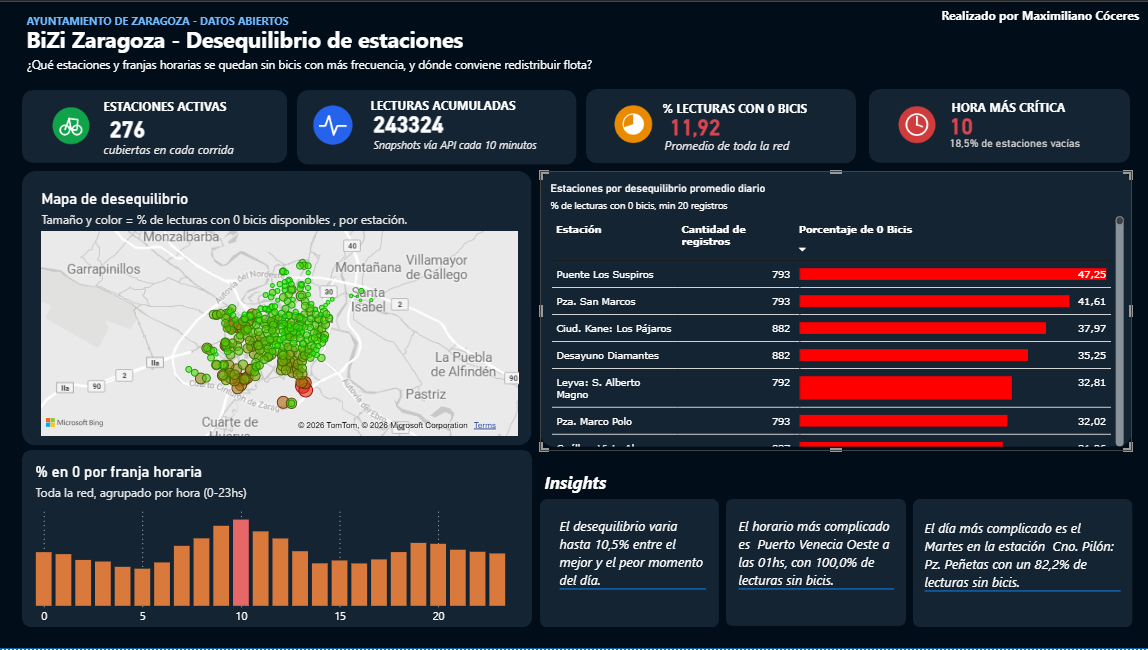

This screenshot's page, from the dashboard's own definition file:
{"tool":"powerbi","page":{"name":"Página 1","canvas":[1280,720],"ordinal":0},"visuals":[{"type":"shape","box":[0,0,1280,720],"z":0},{"type":"textbox","box":[407.7,102.8,224.1,39.2],"z":0,"group":"g11"},{"type":"textbox","box":[731.8,105.6,214.6,29.5],"z":0,"group":"g13"},{"type":"card","fields":{"Values":["porcentaje_0bicis_hora.Hora critica"]},"box":[1041.1,121,56.1,34.8],"z":0,"group":"g14"},{"type":"card","title":"ESTACIONES ACTIVAS","fields":{"Values":["Count(bizi_data.nombre_estacion)"]},"box":[101.4,124,83.1,34.1],"z":0,"group":"g9"},{"type":"textbox","box":[111.1,102.9,177,30.5],"z":1000,"group":"g9"},{"type":"textbox","box":[1053.3,104,184.1,33.7],"z":1000,"group":"g14"},{"type":"card","fields":{"Values":["Sum(porcenraje_veces_sin_bici.registros)"]},"box":[395.9,113.1,118.6,48.5],"z":1000,"group":"g11"},{"type":"card","fields":{"Values":["Avg(porcenraje_veces_sin_bici.porcentaje_0_bicis)"]},"box":[731.1,122.6,84.6,35.2],"z":1000,"group":"g13"},{"type":"shape","box":[25,188.8,566.2,305],"z":1000,"group":"g6"},{"type":"textbox","box":[1007.8,231.1,235.6,34.4],"z":1000},{"type":"textbox","box":[25.6,7.8,315.6,26.7],"z":2000},{"type":"group","id":"g1","title":"Grupo 5","box":[966.8,97.4,290.1,82.3],"z":2000,"group":"g12"},{"type":"card","fields":{"Values":["porcentaje_0bicis_hora.Subtitulo Critico"]},"box":[1035.6,143.7,186.3,23.3],"z":2000,"group":"g14"},{"type":"textbox","box":[411.5,146.3,225.9,36.5],"z":2000,"group":"g11"},{"type":"textbox","box":[734.9,146.5,173,32.9],"z":2000,"group":"g13"},{"type":"textbox","box":[110.8,150.3,197.4,27.9],"z":2000,"group":"g9"},{"type":"map","title":"Mapa de desequilibrio","fields":{"Y":["porcentaje_estacionXhora_vacia.latitud"],"X":["porcentaje_estacionXhora_vacia.longitud"],"Size":["Avg(porcentaje_estacionXhora_vacia.porcentaje)"]},"box":[41.2,210.4,540,277.5],"z":2000,"group":"g6"},{"type":"shape","box":[601.2,188.8,657.5,306.2],"z":2500,"group":"g5"},{"type":"shape","box":[25.3,499.3,566.7,196.8],"z":2500,"group":"g7"},{"type":"tableEx","title":"Estaciones por desequilibrio promedio diario","fields":{"Values":["porcentaje_estacionXhora_vacia.nombre_estacion","Sum(porcentaje_estacionXhora_vacia.registros)","Avg(porcentaje_estacionXhora_vacia.porcentaje)"]},"box":[608.4,201,647.3,298.7],"z":3000,"group":"g5"},{"type":"shape","box":[601.2,553.8,198.8,142.5],"z":3000},{"type":"textbox","box":[25.1,21.1,519,47.2],"z":4000},{"type":"group","id":"g2","title":"Grupo 6","box":[652.2,97.8,300,82.8],"z":4000,"group":"g10"},{"type":"group","id":"g3","title":"Grupo 7","box":[331.1,98.9,310.6,83.9],"z":4000,"group":"g8"},{"type":"textbox","box":[25,56.2,650,41.2],"z":5000},{"type":"group","id":"g4","title":"Grupo 8","box":[25.6,98.9,294.4,82.2],"z":6000},{"type":"textbox","box":[1042.2,2.2,237.8,36.7],"z":7000},{"type":"shape","box":[25.6,98.9,294.7,81],"z":7000,"group":"g4"},{"type":"group","id":"g5","title":"Grupo 10","box":[601.2,188.8,657.5,310.8],"z":8000},{"type":"group","id":"g6","title":"Grupo 11","box":[25,188.8,566.2,305],"z":9000},{"type":"image","box":[333.4,112.5,74.7,50.5],"z":9001,"group":"g8"},{"type":"image","box":[38.7,113.7,82.9,48],"z":9001,"group":"g9"},{"type":"group","id":"g7","title":"Grupo 12","box":[25.3,499.3,566.7,202.7],"z":10000},{"type":"columnChart","title":"% en 0 por franja horaria","fields":{"Category":["porcentaje_estacionXhora_vacia.hora"],"Y":["porcentaje_estacionXhora_vacia.Porcentaje General"]},"box":[35.3,513.3,554.2,188.7],"z":10000,"group":"g7"},{"type":"shape","box":[331.1,98.9,310.6,83.2],"z":10500,"group":"g3"},{"type":"shape","box":[652.2,97.8,300,82.8],"z":10750,"group":"g2"},{"type":"shape","box":[966.8,97.4,290.1,82.3],"z":10875,"group":"g1"},{"type":"group","id":"g8","title":"Grupo 9","box":[331.1,98.9,308.9,84.4],"z":11000},{"type":"group","id":"g9","title":"Grupo 1","box":[38.7,102.9,269.2,75.3],"z":11000,"group":"g4"},{"type":"group","id":"g10","title":"Grupo 13","box":[652.2,97.8,300,83.3],"z":12000},{"type":"group","id":"g11","title":"Grupo 2","box":[395.9,102.8,241.5,80],"z":12000,"group":"g3"},{"type":"group","id":"g12","title":"Grupo 14","box":[966.8,97.4,290.1,82.3],"z":13000},{"type":"group","id":"g13","title":"Grupo 3","box":[731.1,105.6,215.3,73.8],"z":13000,"group":"g2"},{"type":"image","box":[661.7,112.1,84.6,48.8],"z":13000,"group":"g10"},{"type":"image","box":[978.9,112.6,81.7,48.3],"z":13002,"group":"g12"},{"type":"group","id":"g14","title":"Grupo 4","box":[1035.6,104,201.8,63],"z":14000,"group":"g1"},{"type":"shape","box":[1015,553.8,243.8,142.5],"z":14000},{"type":"shape","box":[807.5,553.8,200,141.2],"z":15000},{"type":"textbox","box":[816.2,567.5,182.5,152.5],"z":16000},{"type":"textbox","box":[617.5,567.5,172.5,125],"z":17000},{"type":"textbox","box":[1023.8,570,227.5,146.2],"z":18000},{"type":"textbox","box":[601.2,516.2,100,37.5],"z":19000}]}

Visuals, with their boxes in screenshot pixels (x1, y1, x2, y2), scaled from the page's 1280x720 canvas onto the 1148x650 screenshot:
shape: (0,0,1147,649)
textbox: (366,93,567,128)
textbox: (656,95,849,122)
card - porcentaje_0bicis_hora.Hora critica: (934,109,984,141)
"ESTACIONES ACTIVAS" card: (91,112,165,143)
textbox: (100,93,258,120)
textbox: (945,94,1110,124)
card - Sum(porcenraje_veces_sin_bici.registros): (355,102,461,146)
card - Avg(porcenraje_veces_sin_bici.porcentaje_0_bicis): (656,111,732,142)
shape: (22,170,530,446)
textbox: (904,209,1115,240)
textbox: (23,7,306,31)
"Grupo 5" group: (867,88,1127,162)
card - porcentaje_0bicis_hora.Subtitulo Critico: (929,130,1096,151)
textbox: (369,132,572,165)
textbox: (659,132,814,162)
textbox: (99,136,276,161)
"Mapa de desequilibrio" map: (37,190,521,440)
shape: (539,170,1129,447)
shape: (23,451,531,628)
"Estaciones por desequilibrio promedio diario" tableEx: (546,181,1126,451)
shape: (539,500,718,629)
textbox: (23,19,488,62)
"Grupo 6" group: (585,88,854,163)
"Grupo 7" group: (297,89,576,165)
textbox: (22,51,605,88)
"Grupo 8" group: (23,89,287,163)
textbox: (935,2,1147,35)
shape: (23,89,287,162)
"Grupo 10" group: (539,170,1129,451)
"Grupo 11" group: (22,170,530,446)
image: (299,102,366,147)
image: (35,103,109,146)
"Grupo 12" group: (23,451,531,634)
"% en 0 por franja horaria" columnChart: (32,463,529,634)
shape: (297,89,576,164)
shape: (585,88,854,163)
shape: (867,88,1127,162)
"Grupo 9" group: (297,89,574,165)
"Grupo 1" group: (35,93,276,161)
"Grupo 13" group: (585,88,854,163)
"Grupo 2" group: (355,93,572,165)
"Grupo 14" group: (867,88,1127,162)
"Grupo 3" group: (656,95,849,162)
image: (593,101,669,145)
image: (878,102,951,145)
"Grupo 4" group: (929,94,1110,151)
shape: (910,500,1129,629)
shape: (724,500,904,627)
textbox: (732,512,896,649)
textbox: (554,512,709,625)
textbox: (918,515,1122,647)
textbox: (539,466,629,500)
